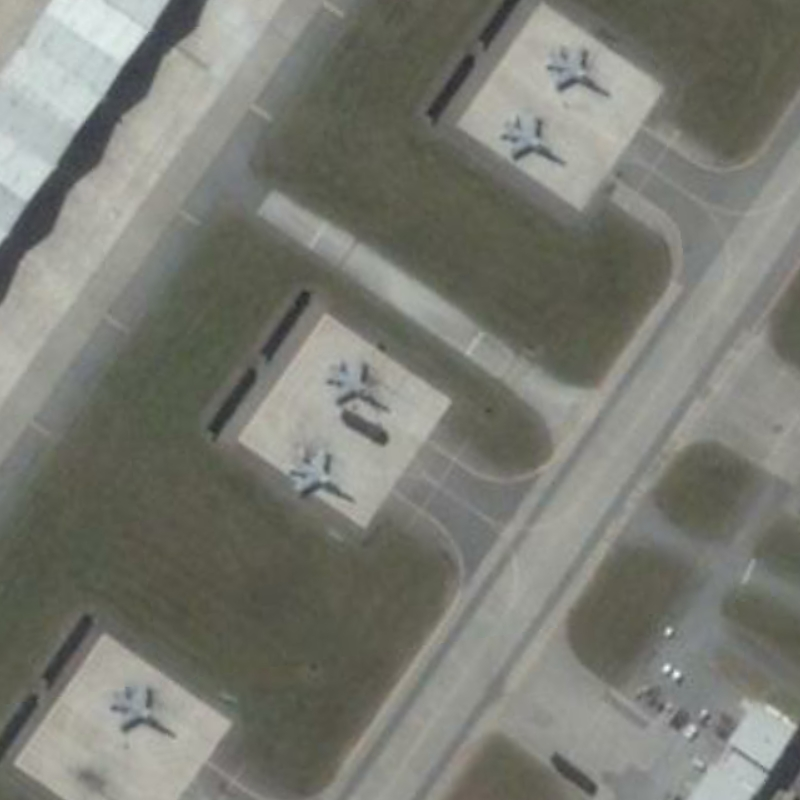A16: (540, 37, 612, 104), (279, 443, 357, 504), (106, 678, 178, 742), (321, 353, 394, 416), (492, 108, 568, 168)
